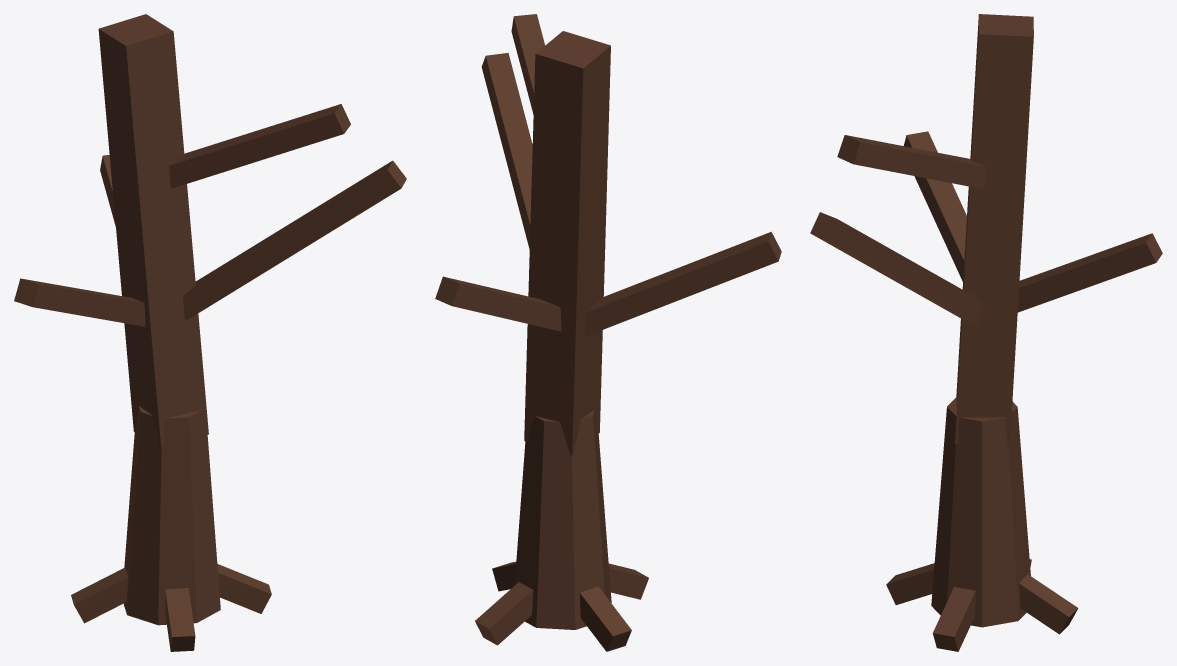
The model's file is tree_rustwood_m_trunk.fbx.
3 views of the same model, side by side, from view 1: azimuth 30°, elevation 25°; view 2: azimuth 150°, elevation 25°; view 3: azimuth 270°, elevation 25° (orthographic).
Visible parts, largest first — view 1: tree_rustwood_m_trunk; view 2: tree_rustwood_m_trunk; view 3: tree_rustwood_m_trunk.
Part boxes in pixels (left/top/right/bottom): tree_rustwood_m_trunk: left=14, top=14, right=406, bottom=651; tree_rustwood_m_trunk: left=435, top=14, right=781, bottom=651; tree_rustwood_m_trunk: left=810, top=14, right=1162, bottom=651.
Size of the model in its own units: 1009 by 1635 by 899.
